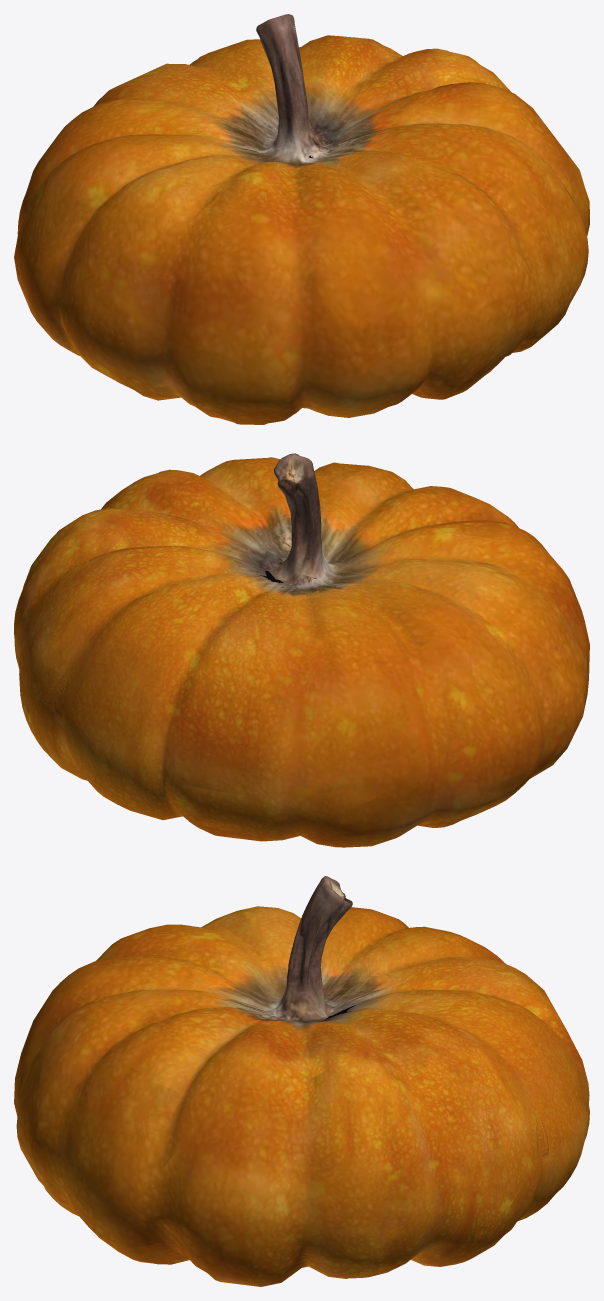
Rendered from Tikva.fbx.
The picture shows the model from 3 angles, top to bottom: view 1: azimuth 30°, elevation 25°; view 2: azimuth 150°, elevation 25°; view 3: azimuth 270°, elevation 25°; orthographic projection.
Visible parts, largest first — view 1: pumpkin_; view 2: pumpkin_; view 3: pumpkin_.
Boxes of the visible parts, x1,y1,x2,y2 form: pumpkin_: [14, 14, 589, 424]; pumpkin_: [14, 453, 589, 847]; pumpkin_: [14, 876, 589, 1286].
Bounding box in the file's own units: 77.92 × 47.77 × 76.26.
